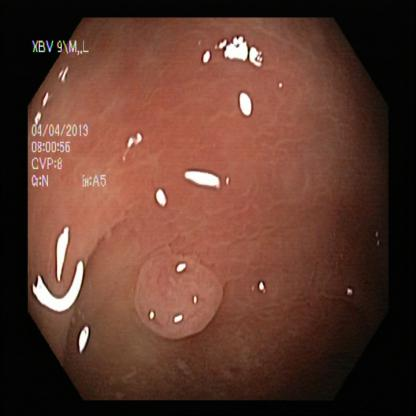Labels: (31, 31, 117, 204)
Polyps: (123, 249, 225, 341)
